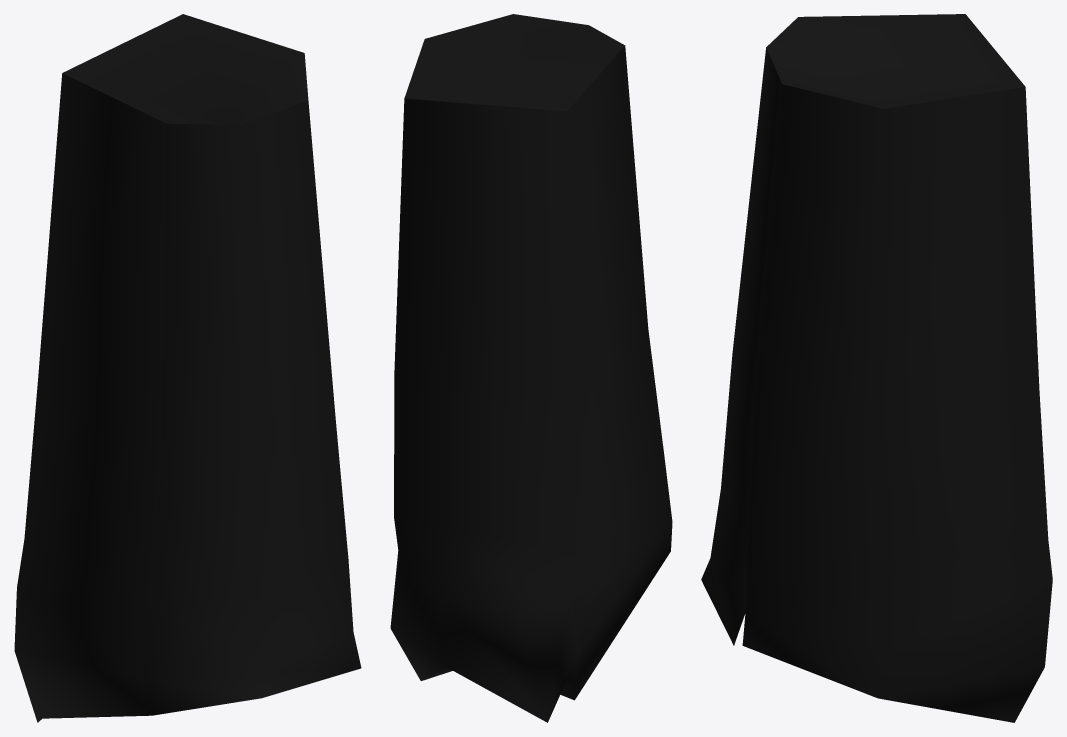
The model's file is right_forearm.glb.
3 views of the same model, side by side, from view 1: azimuth 30°, elevation 25°; view 2: azimuth 150°, elevation 25°; view 3: azimuth 270°, elevation 25° (orthographic). The views are drawn at different scales.
Visible parts, largest first — view 1: sweater-black_RIGHT_FOREARM; view 2: sweater-black_RIGHT_FOREARM; view 3: sweater-black_RIGHT_FOREARM.
Part boxes in pixels (x1=…): sweater-black_RIGHT_FOREARM: x1=14, y1=14, x2=361, y2=722; sweater-black_RIGHT_FOREARM: x1=390, y1=14, x2=672, y2=722; sweater-black_RIGHT_FOREARM: x1=701, y1=14, x2=1052, y2=722.
Size of the model in its own units: 0.1157 by 0.2922 by 0.1405.
1 material, 1 textured.
